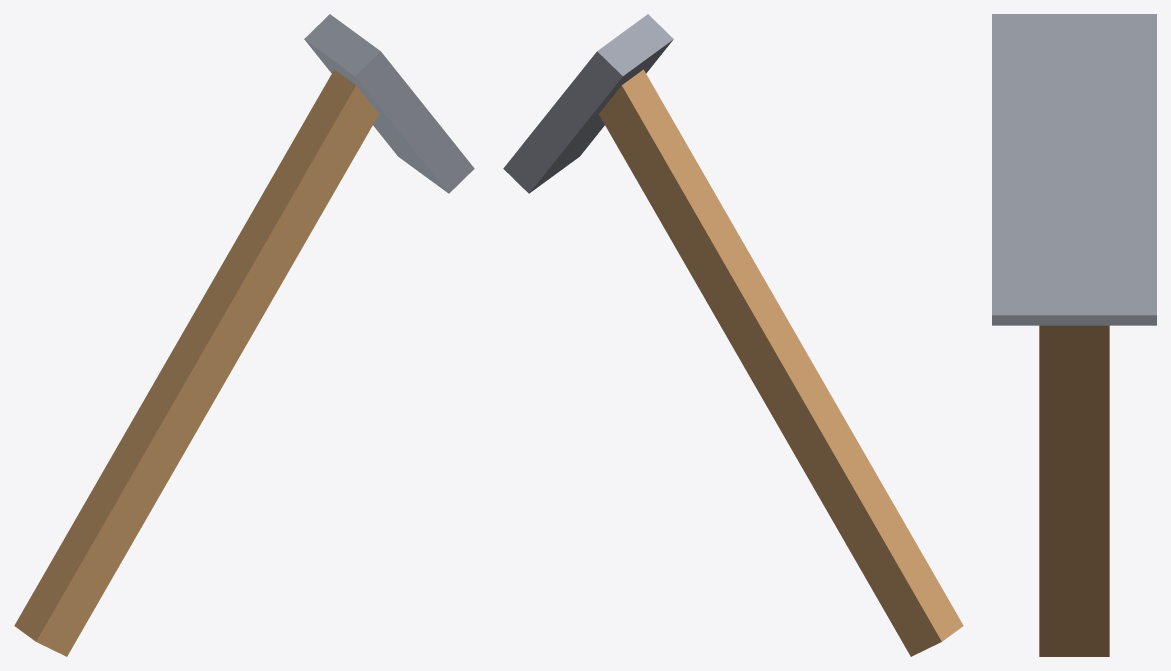
Rendered from hoe.obj.
3 renders of one model, left to right at view 1: azimuth 30°, elevation 25°; view 2: azimuth 150°, elevation 25°; view 3: azimuth 270°, elevation 25°, orthographic. The views are drawn at different scales.
Parts seen in each view (by area): view 1: item; view 2: item; view 3: item.
Boxes of the visible parts, box(x1,y1,x2,y2) form: item: box(14, 14, 474, 656); item: box(503, 14, 963, 656); item: box(992, 14, 1156, 656).
Size of the model in its own units: 0.6735 by 0.8244 by 0.14.
